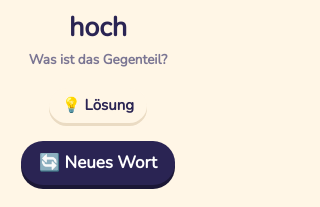
Begriff-Stapel › Gegenteil: offen, Lösung erst auf Tipp, dann neues Wort
Check: the text "tief" is not shown
Click the button "💡 Lösung".
click(98, 105)  # box [49, 88, 147, 123]
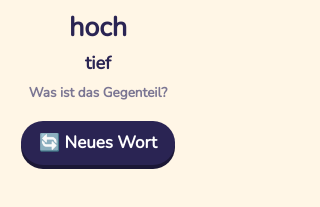
Check: the text "tief" is shown, box [85, 51, 111, 76]
Click the button "🔄 Neues Wort".
click(98, 143)  # box [21, 121, 175, 165]
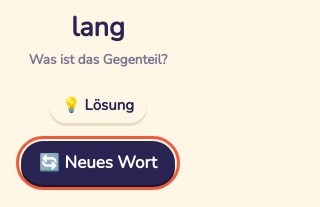
Check: the text "hoch" is gone
Check: the text "tief" is gone
